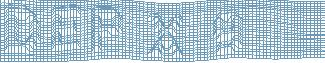9: (211, 10, 244, 56)
D: (3, 6, 42, 55)
E: (49, 3, 83, 51)
P: (90, 4, 125, 56)
X: (145, 11, 185, 60)
